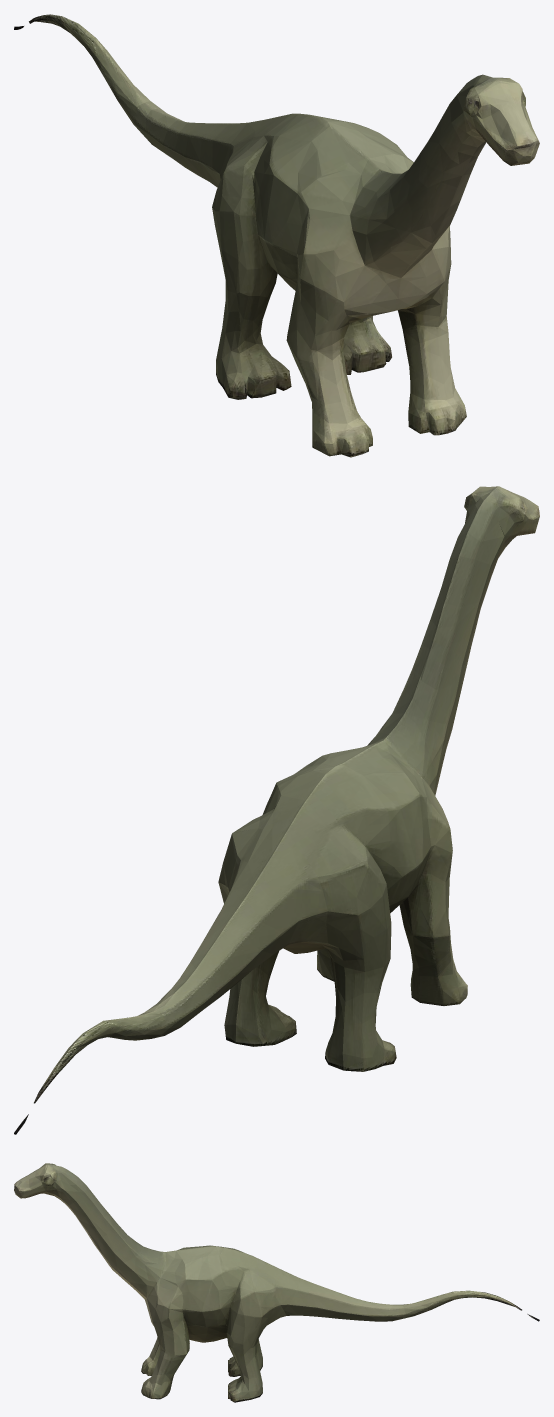
Rendered from diplodocus.glb.
3 views of the same model, one above another, from view 1: azimuth 30°, elevation 25°; view 2: azimuth 150°, elevation 25°; view 3: azimuth 270°, elevation 25° (orthographic). The views are drawn at different scales.
Parts seen in each view (by area): view 1: geometry_0; view 2: geometry_0; view 3: geometry_0.
Part boxes in pixels (<box>): geometry_0: <box>14,14,539,457</box>; geometry_0: <box>14,486,539,1134</box>; geometry_0: <box>14,1163,539,1402</box>.
Bounding box in the file's own units: 0.1782 × 0.4587 × 0.9974.
Materials: 1 (1 with a texture image).
